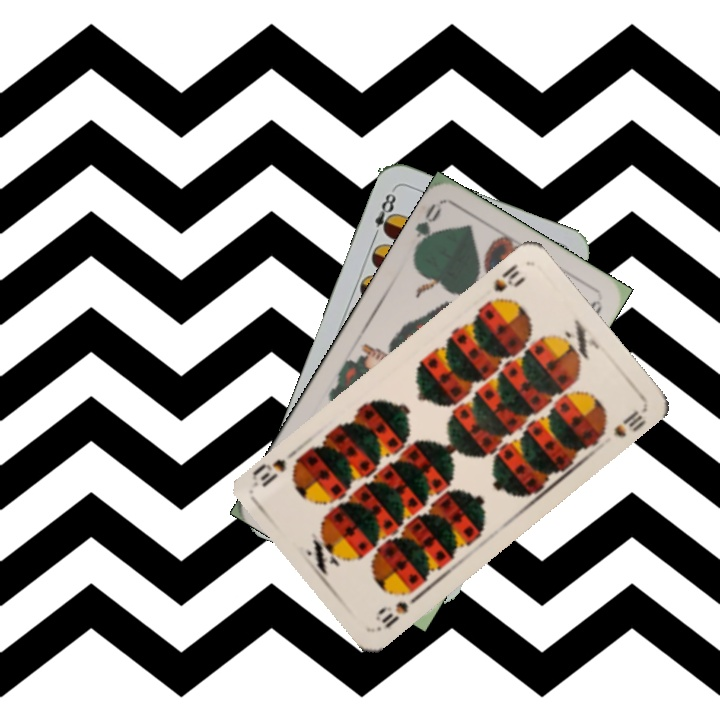E8: (368, 186, 399, 243)
GO: (410, 199, 445, 255)
S10: (482, 260, 528, 308), (371, 597, 411, 631)
